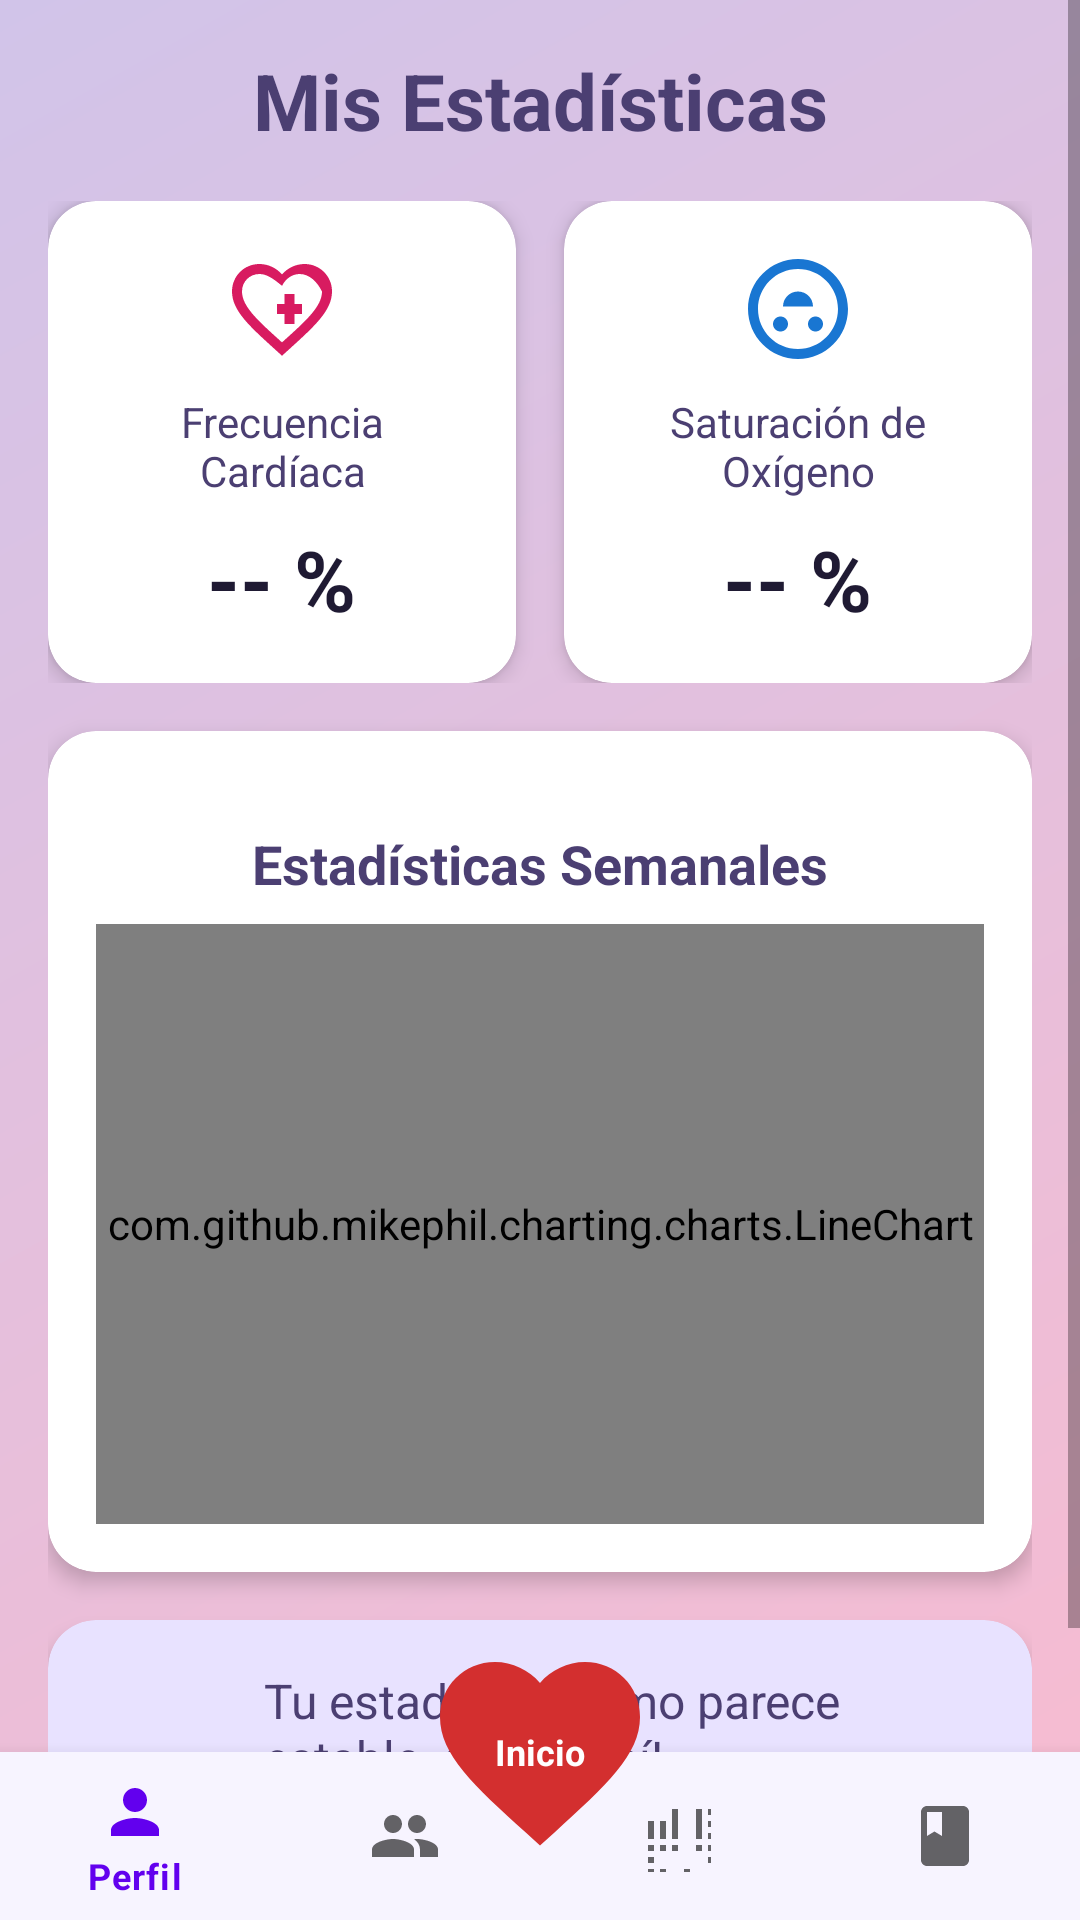

Icons on this 1080px×1920px Android screen, each with the point to tap as [x,y]:
corazon shape: [541,1767]
heart rate: [282,310]
